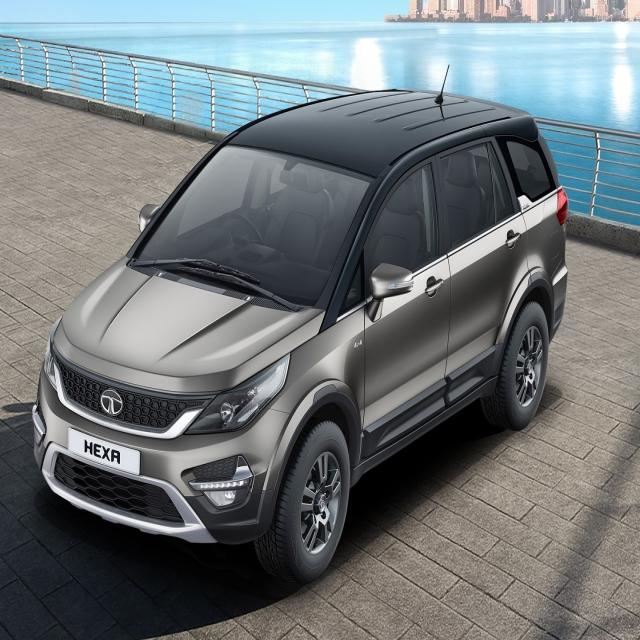car: (27, 90, 567, 523)
